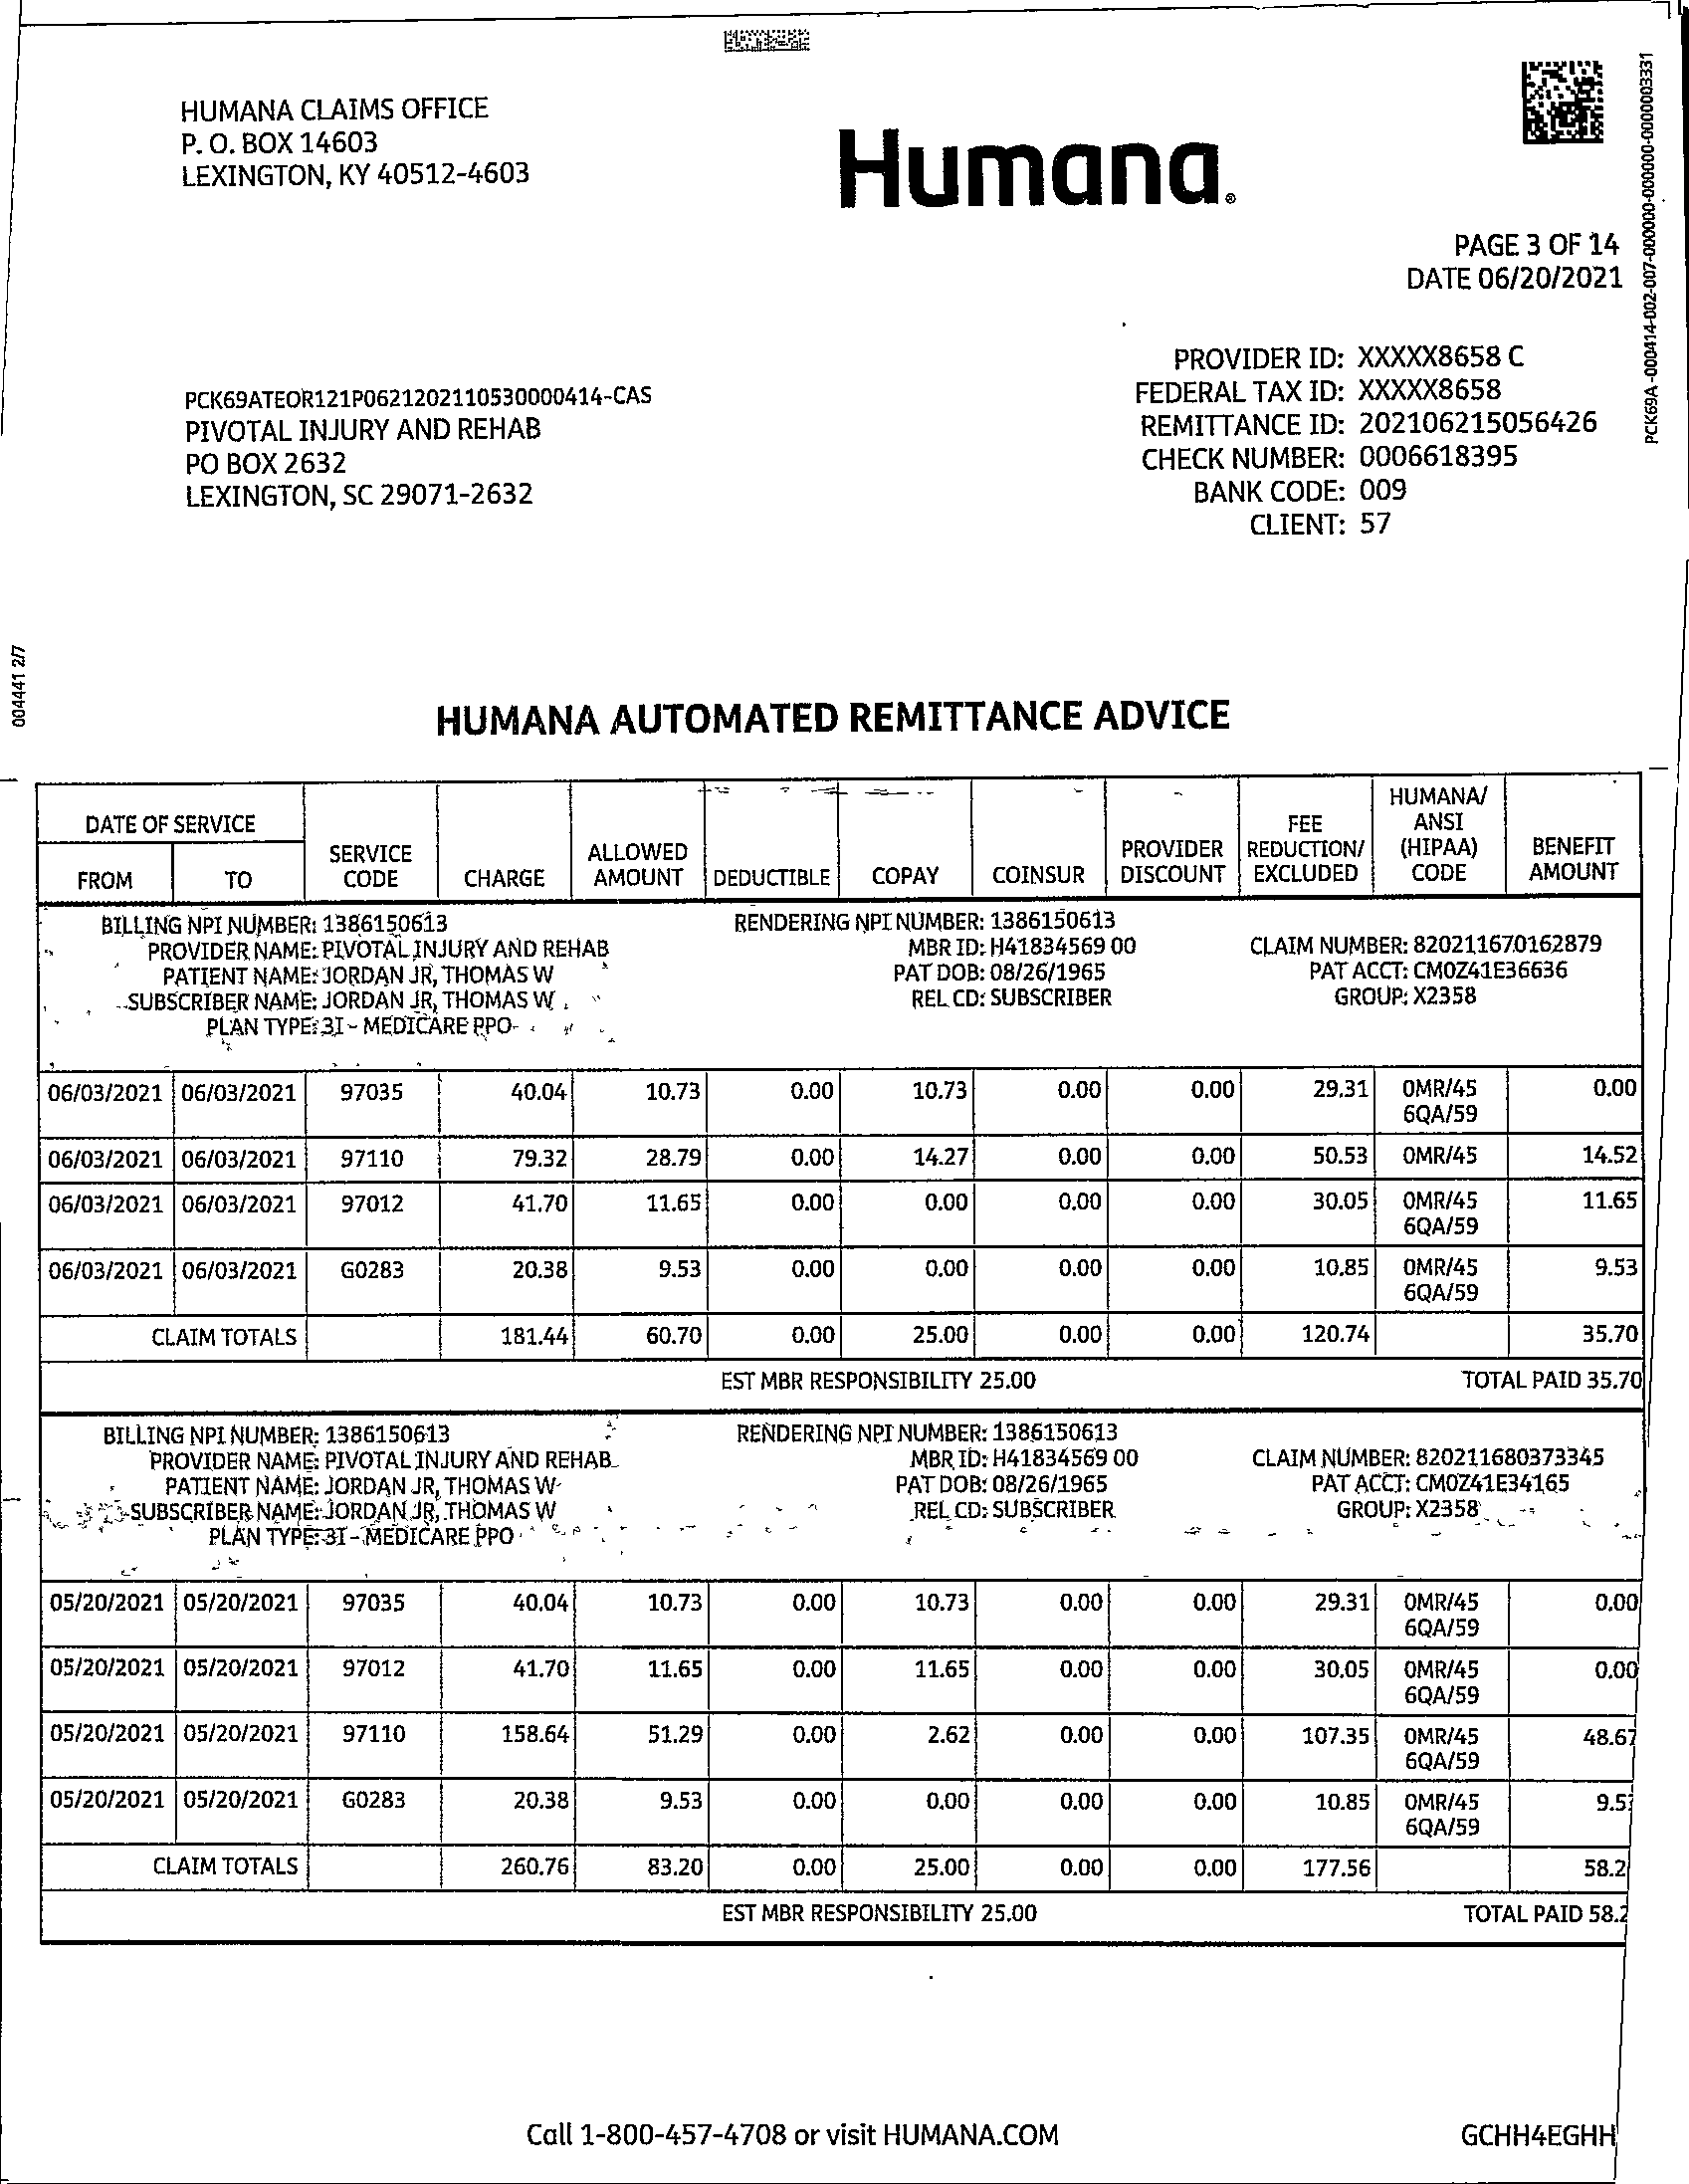data: (1101, 319, 1618, 555), (165, 370, 658, 537), (85, 1415, 622, 1555), (96, 908, 622, 1046), (720, 1413, 1170, 1549), (721, 908, 1150, 1026), (1225, 915, 1615, 1030), (1241, 1427, 1611, 1544)
table: (19, 768, 1634, 1938)
